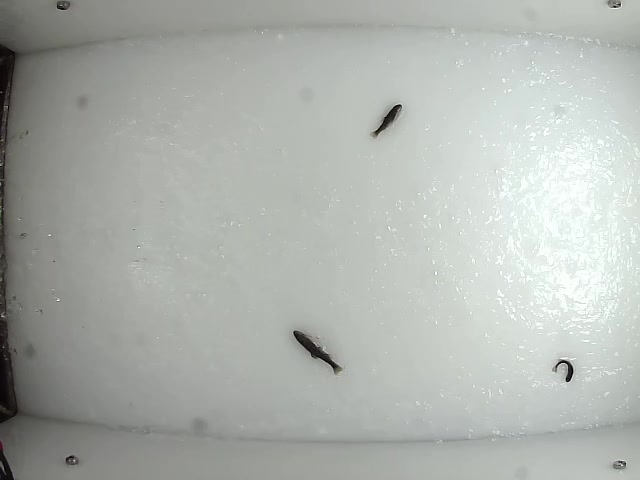fish: (290, 329, 345, 376), (365, 101, 401, 144), (550, 359, 577, 384)
